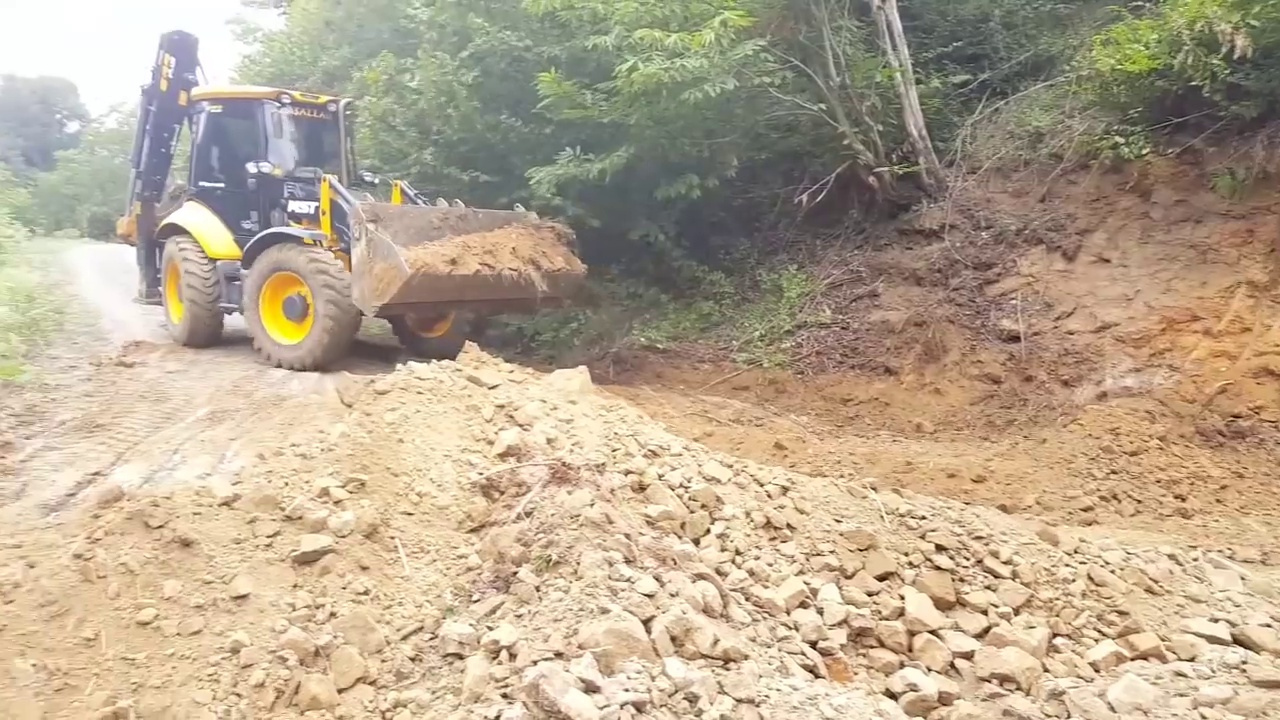wheel loader: (113, 27, 594, 368)
